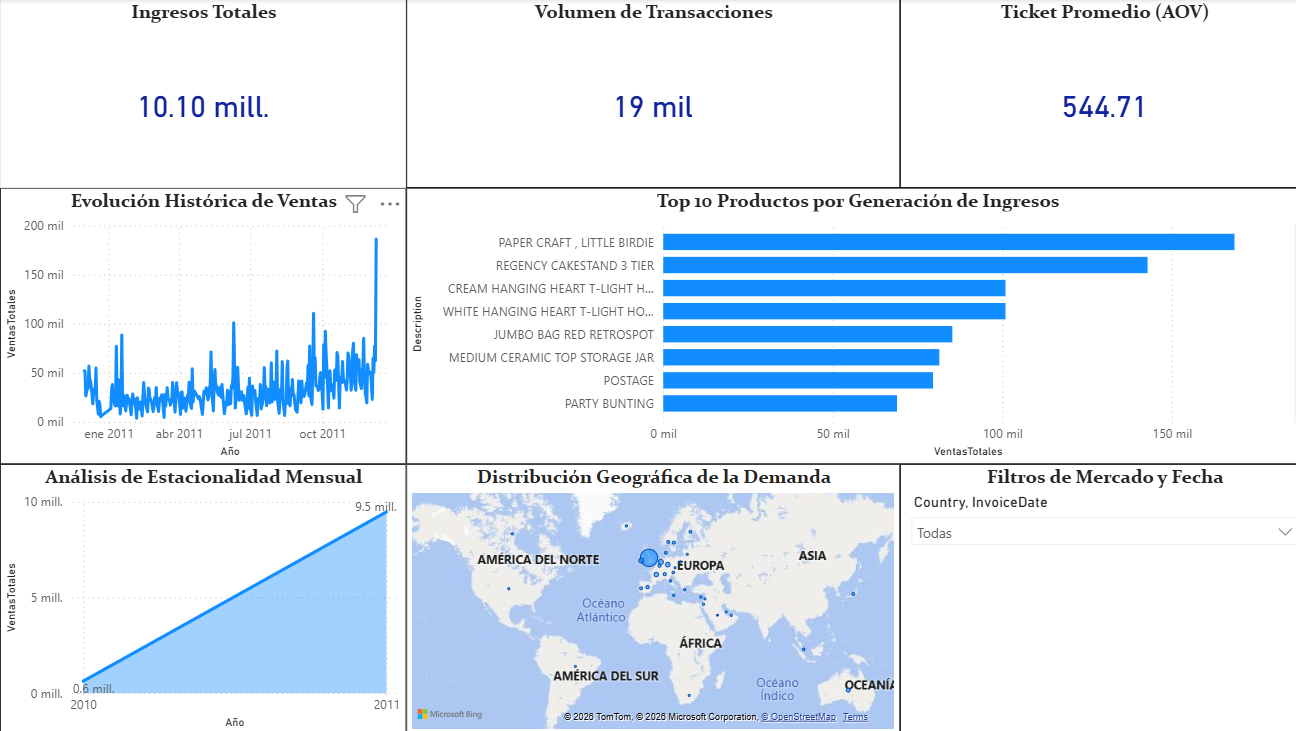

What the dashboard file says about the page in this screenshot:
{"tool":"powerbi","page":{"name":"Página 1","canvas":[1280,720],"ordinal":0},"visuals":[{"type":"lineChart","title":"Evolución Histórica de Ventas","fields":{"Y":["ecommerce_db v_analisis_comercial.VentasTotales"],"Category":["ecommerce_db v_analisis_comercial.InvoiceDate.Variación.Jerarquía de fechas.Año","ecommerce_db v_analisis_comercial.InvoiceDate.Variación.Jerarquía de fechas.Trimestre","ecommerce_db v_analisis_comercial.InvoiceDate.Variación.Jerarquía de fechas.Mes","ecommerce_db v_analisis_comercial.InvoiceDate.Variación.Jerarquía de fechas.Día"]},"box":[0,184.6,397.4,270.2],"z":1},{"type":"map","title":"Distribución Geográfica de la Demanda","fields":{"Category":["ecommerce_db v_analisis_comercial.Country"],"Size":["ecommerce_db v_analisis_comercial.VentasTotales"]},"box":[397.4,454.9,483,265.4],"z":2},{"type":"clusteredBarChart","title":"Top 10 Productos por Generación de Ingresos","fields":{"Category":["ecommerce_db v_analisis_comercial.Description"],"Y":["ecommerce_db v_analisis_comercial.VentasTotales"]},"box":[397.4,184.6,882.9,270.2],"z":3},{"type":"actionButton","box":[0,0,100,40],"z":5},{"type":"card","title":"Ingresos Totales ","fields":{"Values":["ecommerce_db v_analisis_comercial.VentasTotales"]},"box":[0,0,397.4,184.6],"z":6},{"type":"card","title":"Volumen de Transacciones","fields":{"Values":["ecommerce_db v_analisis_comercial.TotalPedidos"]},"box":[397.4,0,483,184.6],"z":7},{"type":"card","title":"Ticket Promedio (AOV)","fields":{"Values":["ecommerce_db v_analisis_comercial.TicketMedio"]},"box":[880.4,0,399.9,184.6],"z":8},{"type":"slicer","title":"Filtros de Mercado y Fecha","fields":{"Values":["ecommerce_db v_analisis_comercial.Country","ecommerce_db v_analisis_comercial.InvoiceDate"]},"box":[880.4,454.9,399.9,265.4],"z":9},{"type":"areaChart","title":"Análisis de Estacionalidad Mensual","fields":{"Category":["ecommerce_db v_analisis_comercial.InvoiceDate.Variación.Jerarquía de fechas.Año","ecommerce_db v_analisis_comercial.InvoiceDate.Variación.Jerarquía de fechas.Trimestre","ecommerce_db v_analisis_comercial.InvoiceDate.Variación.Jerarquía de fechas.Mes","ecommerce_db v_analisis_comercial.InvoiceDate.Variación.Jerarquía de fechas.Día"],"Y":["ecommerce_db v_analisis_comercial.VentasTotales"]},"box":[0,454.9,397.4,265.4],"z":10}]}

Visuals, with their boxes in screenshot pixels (x1, y1, x2, y2), scaled from the page's 1280x720 canvas onto the 1296x731 screenshot:
"Evolución Histórica de Ventas" lineChart: 0, 187, 402, 462
"Distribución Geográfica de la Demanda" map: 402, 462, 891, 730
"Top 10 Productos por Generación de Ingresos" clusteredBarChart: 402, 187, 1295, 462
actionButton: 0, 0, 101, 41
"Ingresos Totales " card: 0, 0, 402, 187
"Volumen de Transacciones" card: 402, 0, 891, 187
"Ticket Promedio (AOV)" card: 891, 0, 1295, 187
"Filtros de Mercado y Fecha" slicer: 891, 462, 1295, 730
"Análisis de Estacionalidad Mensual" areaChart: 0, 462, 402, 730
